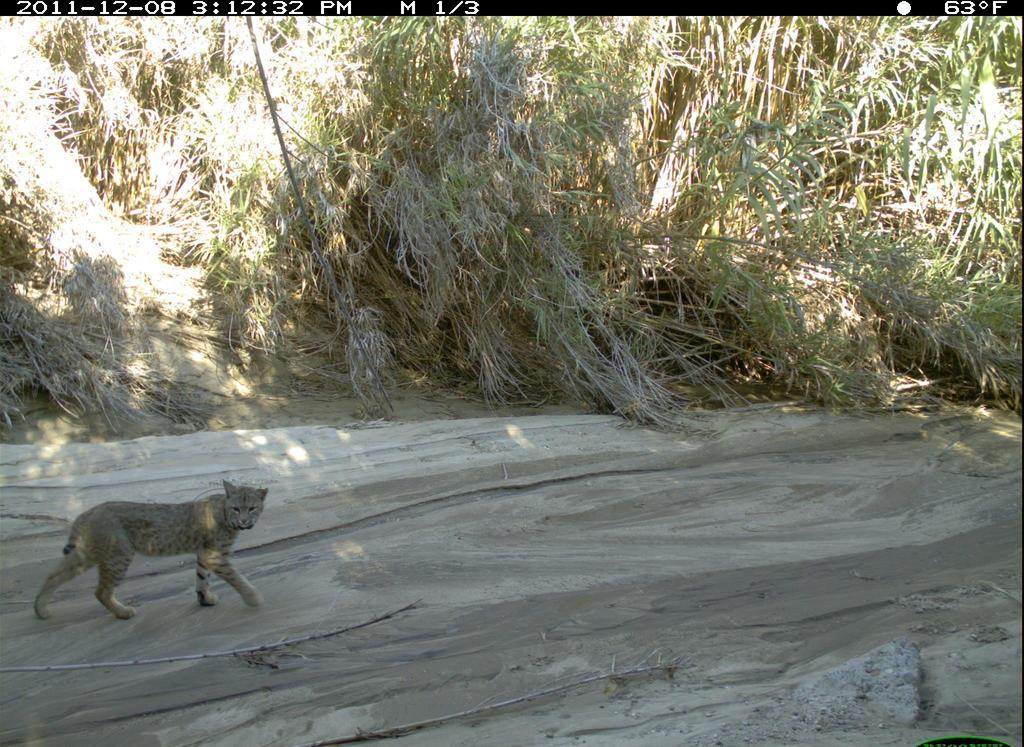bobcat: (27, 474, 282, 646)
